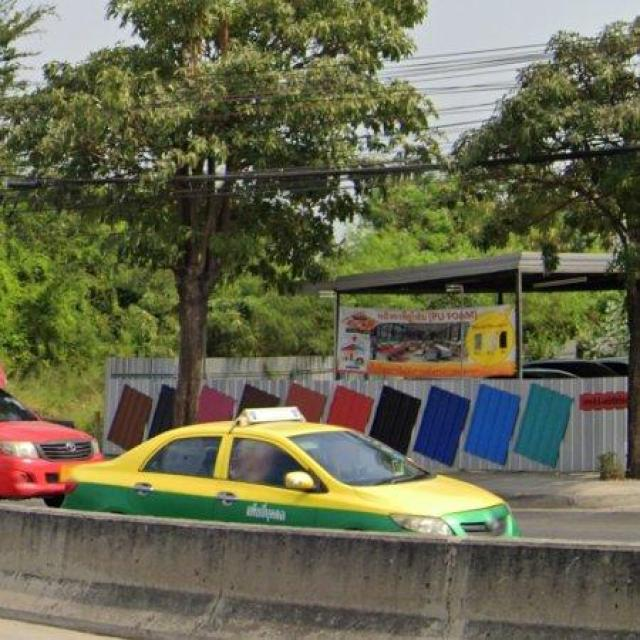Taxi: (64, 408, 521, 538)
